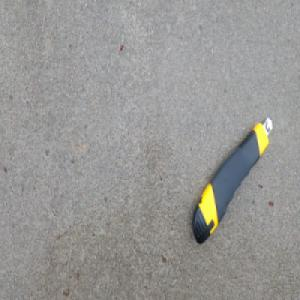Cutter: (191, 115, 273, 246)
